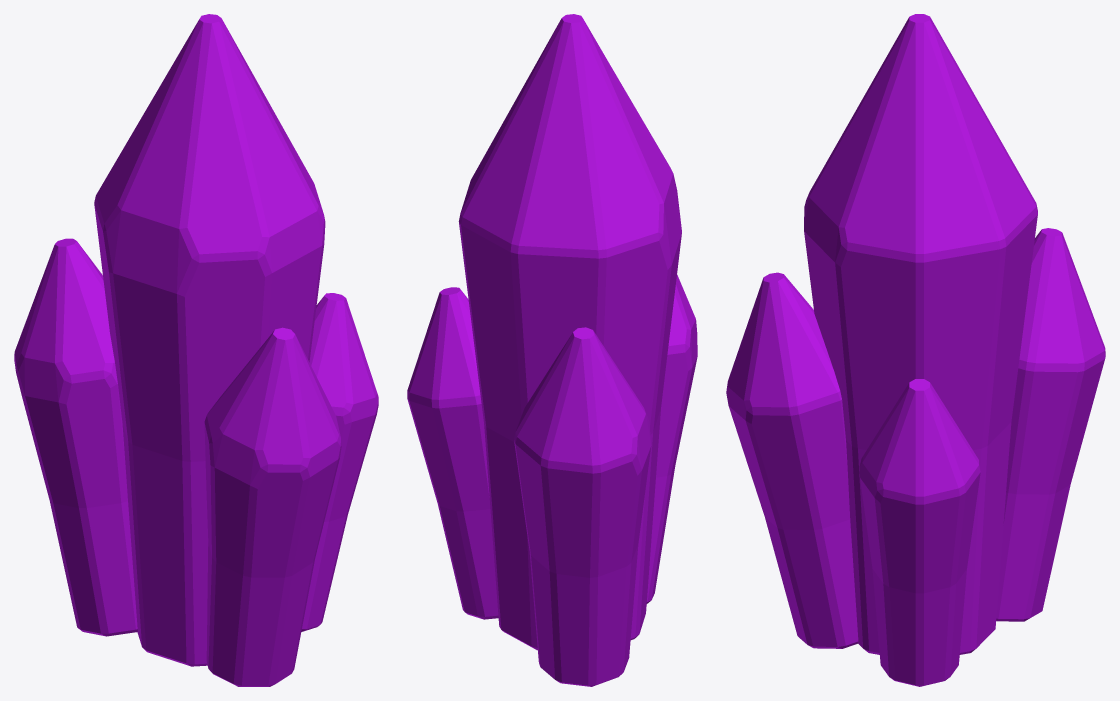
The model's file is Crystal.fbx.
3 renders of one model, left to right at view 1: azimuth 30°, elevation 25°; view 2: azimuth 150°, elevation 25°; view 3: azimuth 270°, elevation 25°, orthographic. The views are drawn at different scales.
Visible parts, largest first — view 1: Circle.005; view 2: Circle.005; view 3: Circle.005.
Part boxes in pixels (<box>): Circle.005: <box>14,14,378,686</box>; Circle.005: <box>407,14,697,686</box>; Circle.005: <box>726,14,1105,686</box>.
Bounding box in the file's own units: 1.72 × 3.54 × 1.97.
